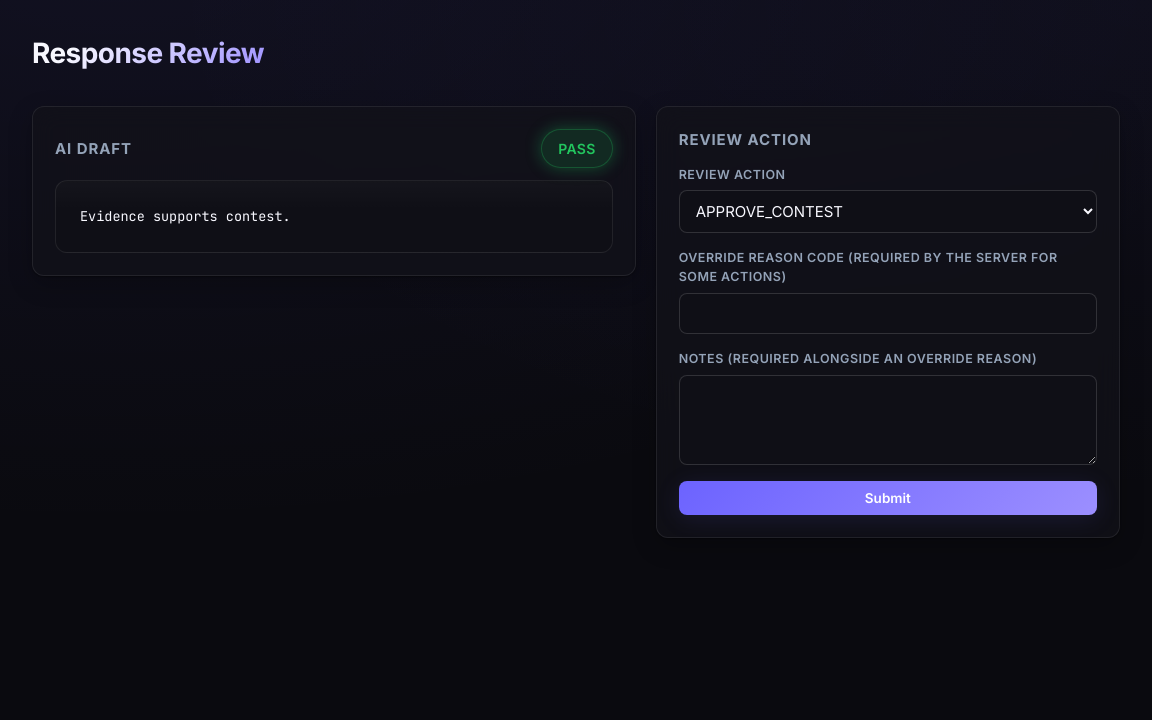
Test: ResponseReview › shows a finalized state on FINALIZED
Expected: the text "Evidence supports contest." is shown, [55,180,613,253]
Click the button "Submit": (888, 498) [679,480,1097,514]
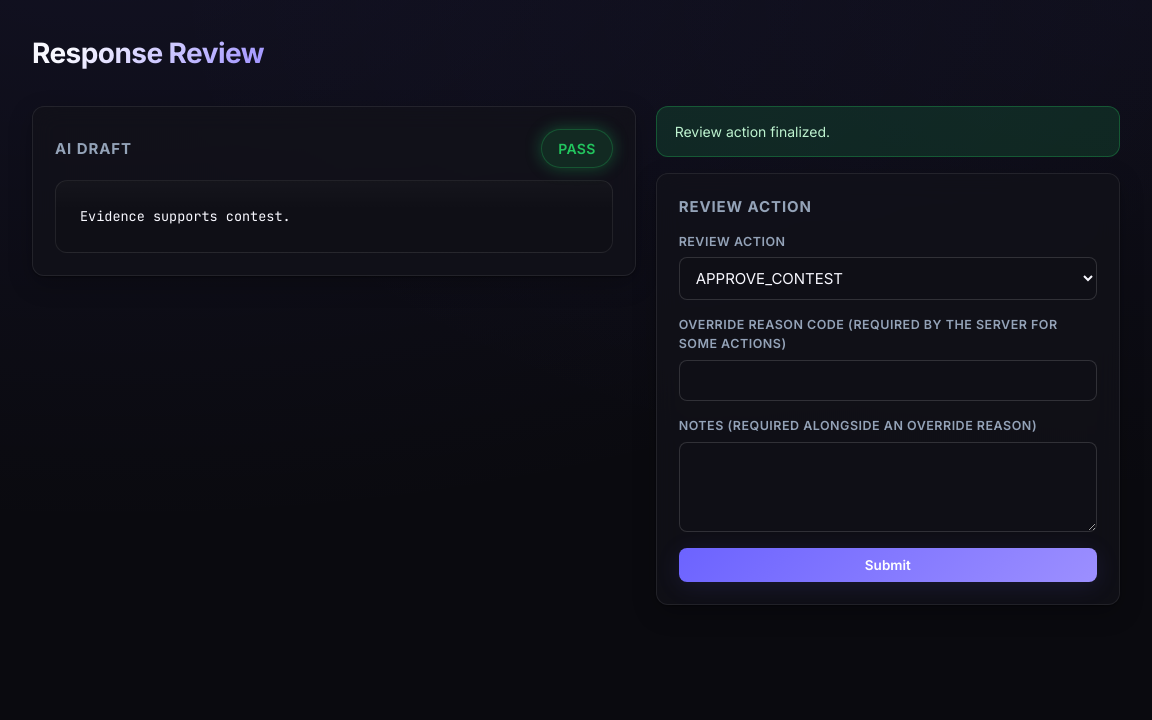
Expected: the text "Review action finalized." is shown, [656,106,1120,157]
